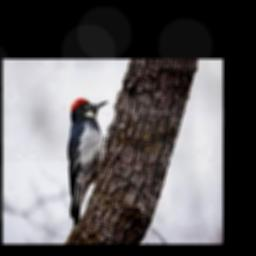Woodpecker: (68, 98, 109, 227)
